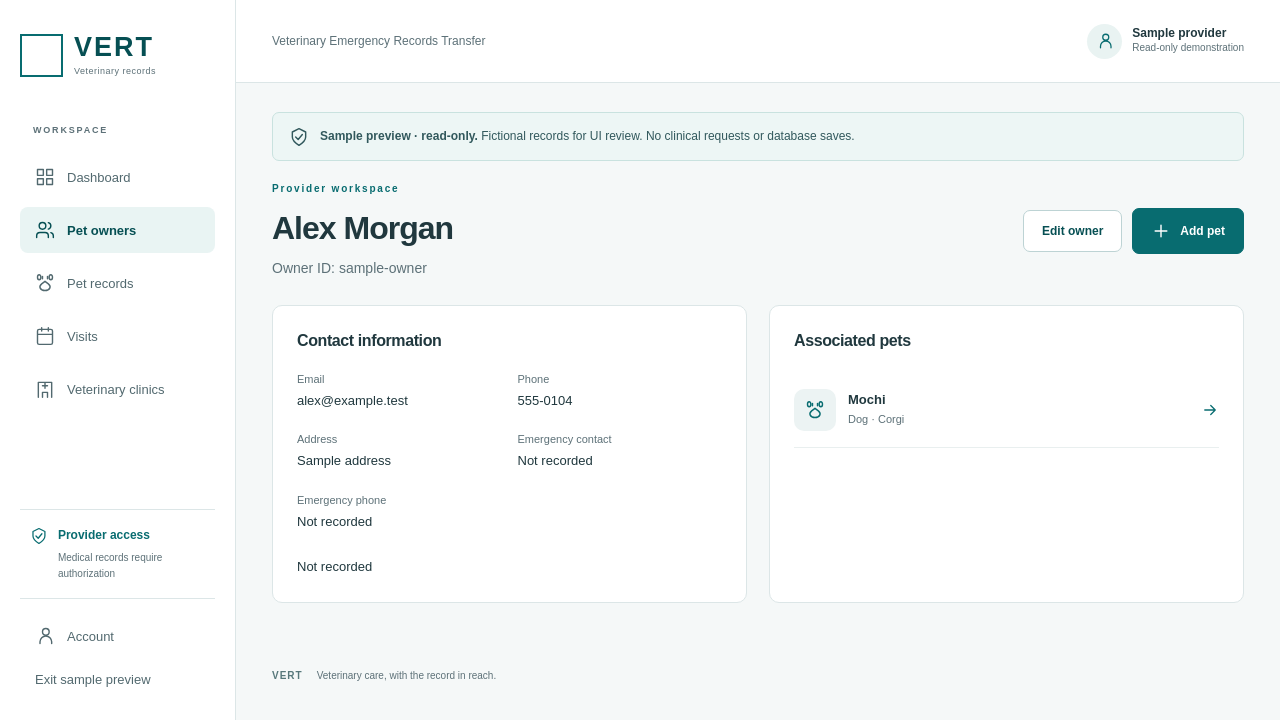
Test: provider navigation and integration states › navigates owner → pet → visit → medication in the separate sample preview
Click the link "Mochi Dog · Corgi": point(815, 410) [794,373,1219,448]
(page scrolled)
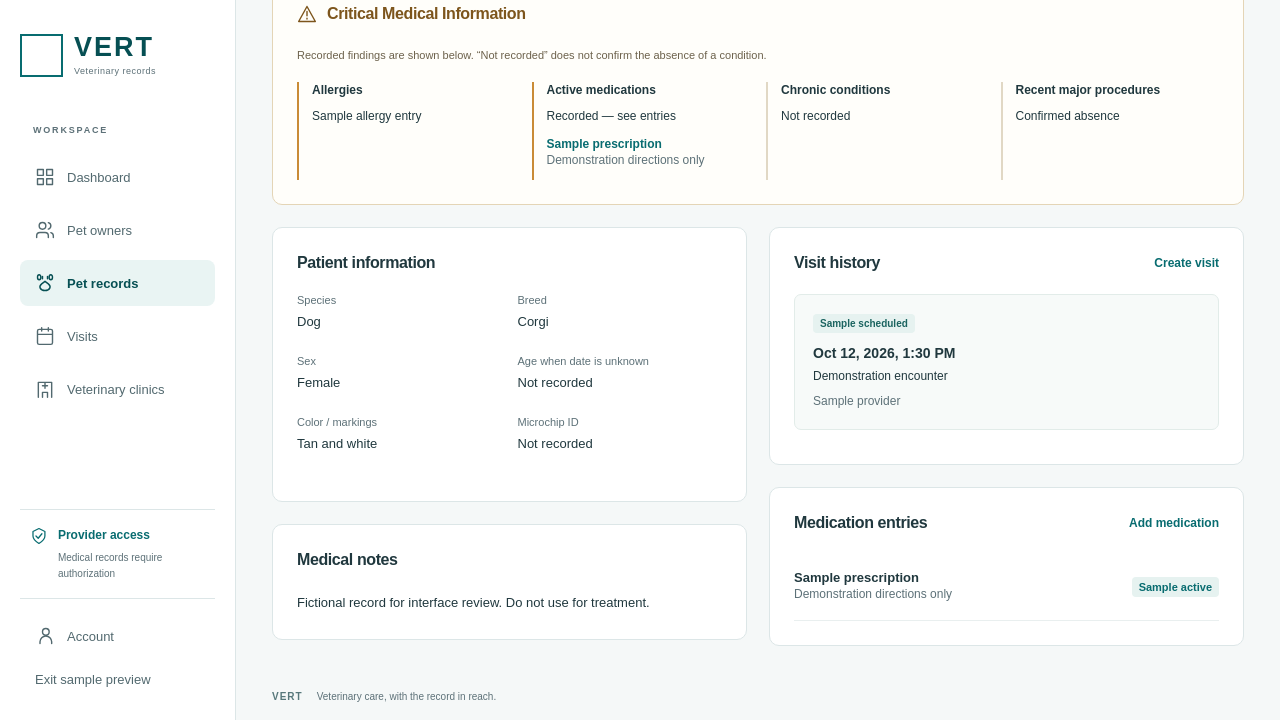
Click the link that starts with "Sample scheduled": point(864, 324) [794,294,1219,430]
(page scrolled)
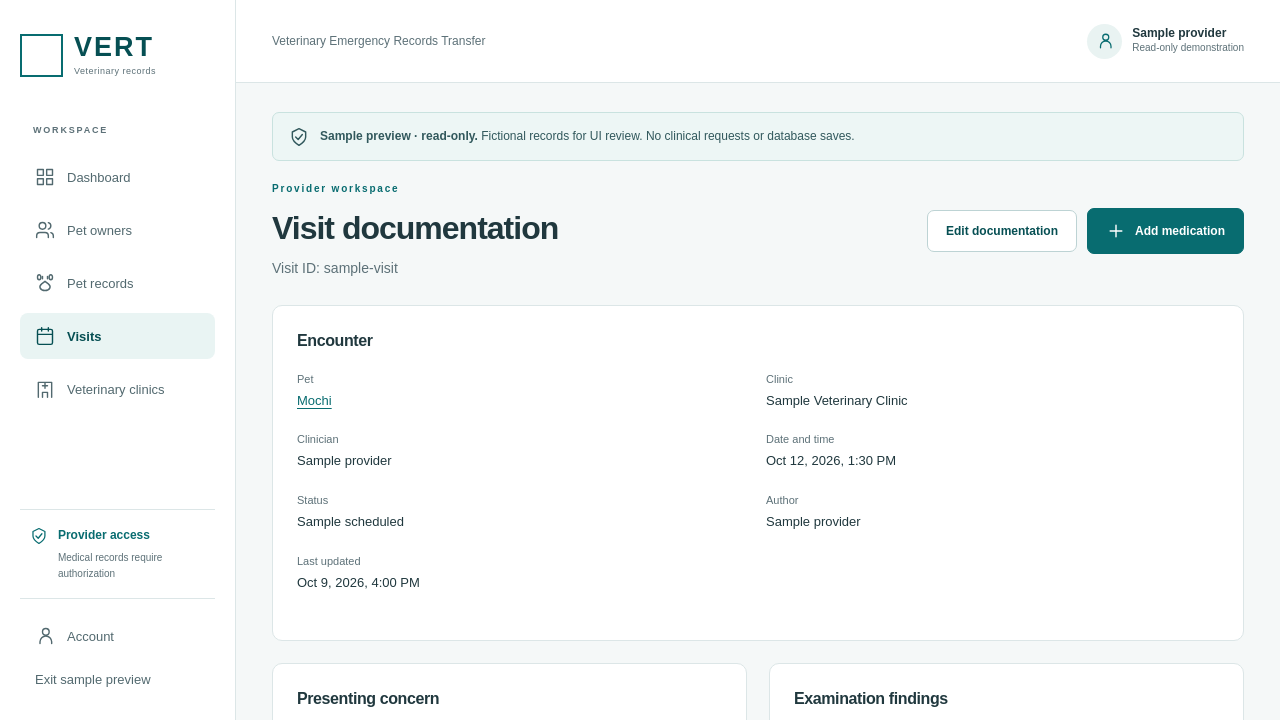
Expected: the heading "Visit documentation" is shown, [272,208,558,249]
Click the link "Add medication": point(1166, 231) [1087,208,1244,254]
(page scrolled)
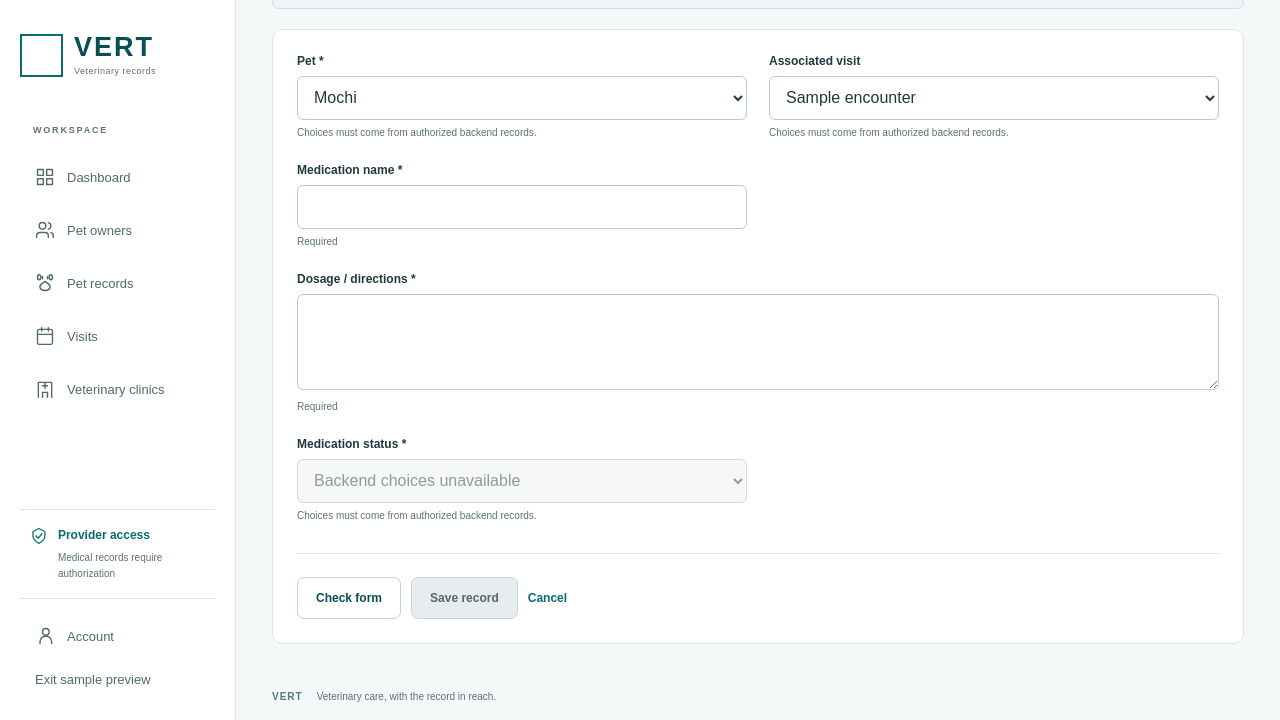
Expected: the button "Save record" is disabled, [411,577,518,619]
